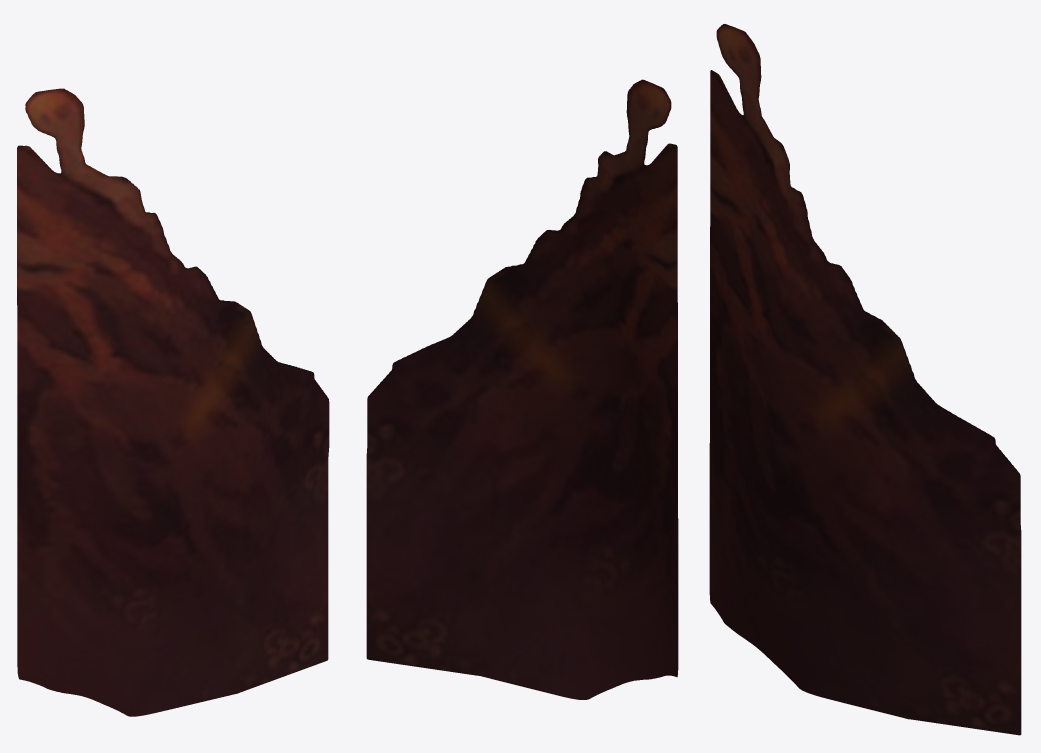
The model's file is bm_shandi01.FBX.
3 views of the same model, side by side, from view 1: azimuth 30°, elevation 25°; view 2: azimuth 150°, elevation 25°; view 3: azimuth 330°, elevation 25° (orthographic).
Parts seen in each view (by area): view 1: shan01; view 2: shan01; view 3: shan01.
Boxes of the visible parts, x1,y1,x2,y2 form: shan01: (17, 88, 329, 716); shan01: (366, 79, 678, 699); shan01: (709, 24, 1021, 735).
Size of the model in its own units: 687 by 1333 by 138.
